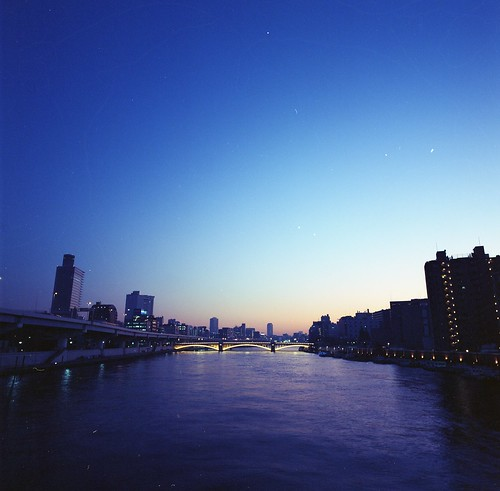bridge: (169, 327, 319, 355)
building: (424, 253, 500, 348), (41, 250, 97, 317), (387, 293, 429, 356), (121, 282, 163, 335), (350, 306, 388, 348)
river: (1, 350, 500, 491)
sky: (1, 1, 487, 298)
